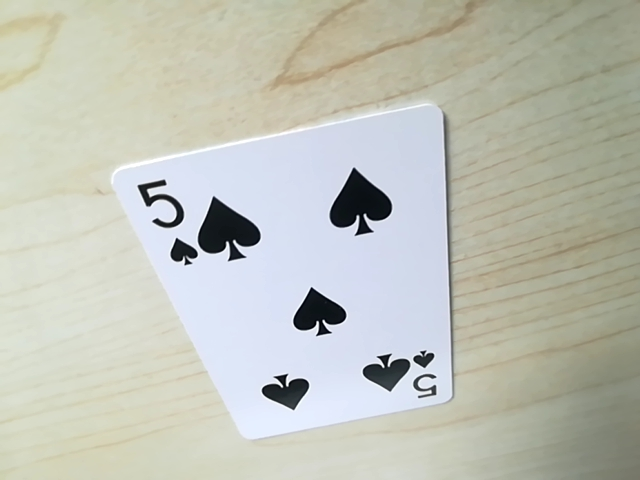ht 5: (132, 172, 201, 271), (407, 353, 443, 408)
